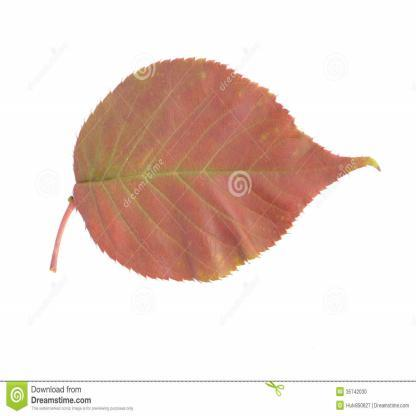Cherry leaf: (65, 52, 400, 283)
